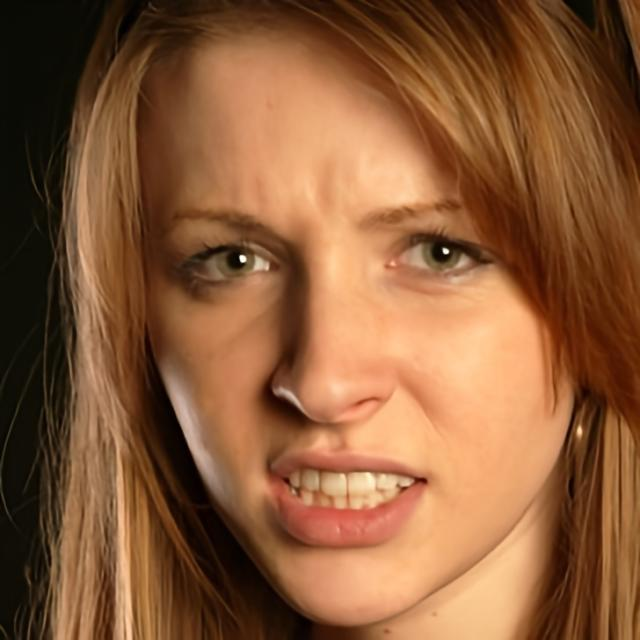anger: (130, 27, 558, 617)
